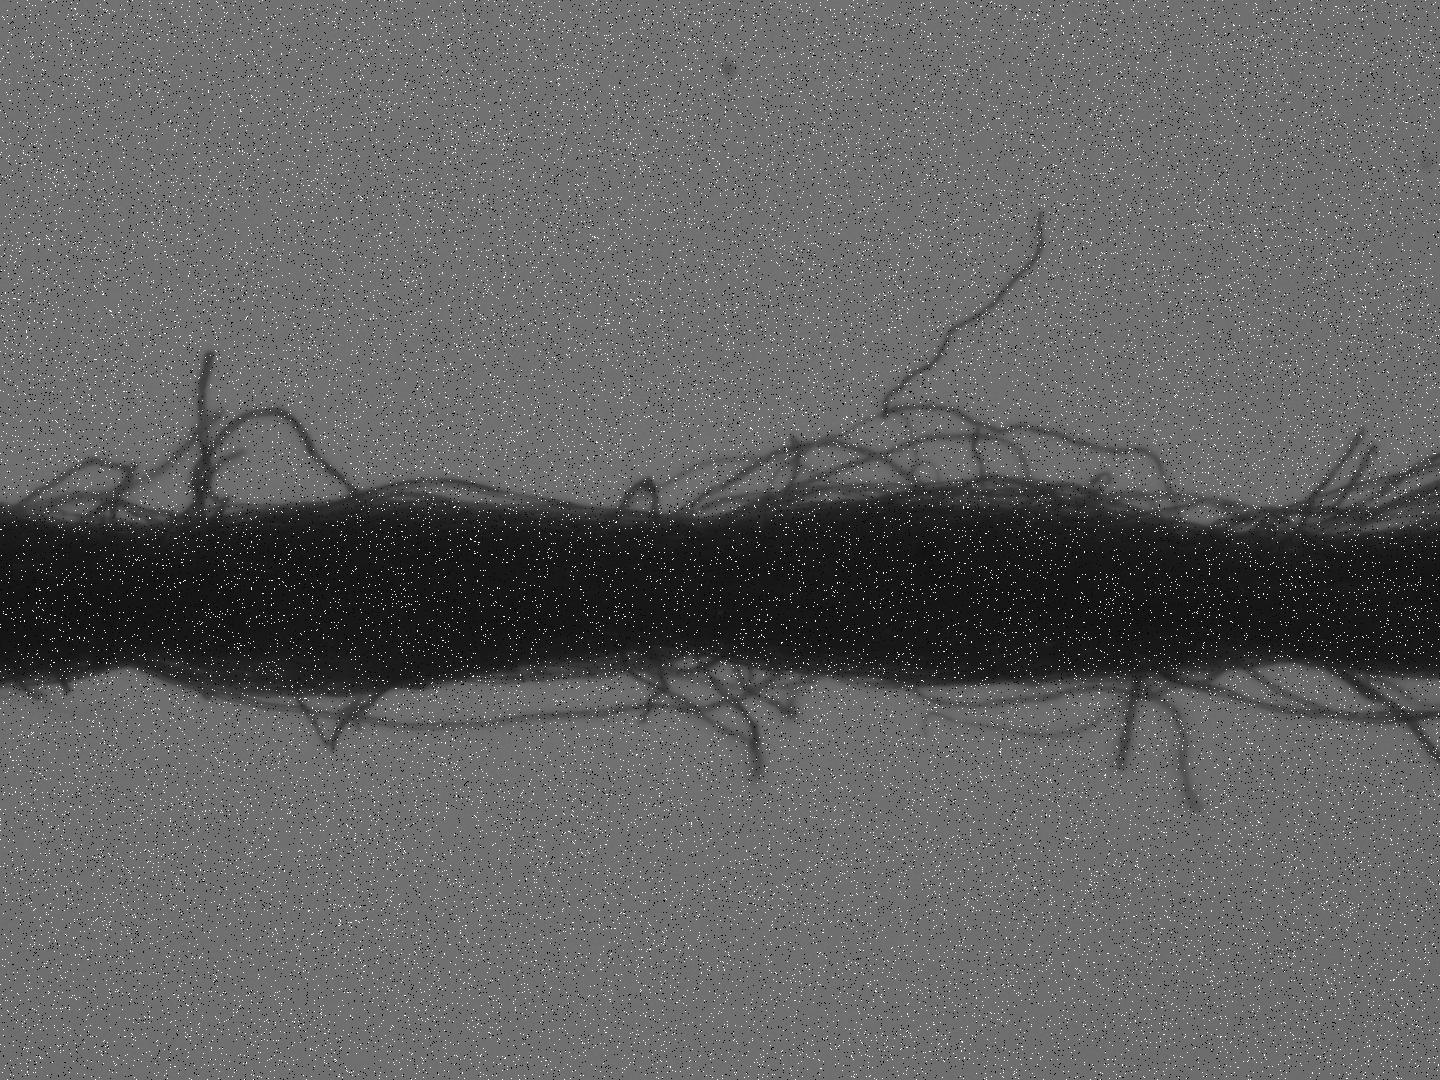loop_fiber: (181, 399, 374, 543), (616, 626, 765, 785), (671, 437, 942, 523), (293, 474, 685, 525), (757, 431, 1032, 504), (872, 473, 1158, 529), (288, 658, 391, 754), (11, 454, 136, 528), (581, 474, 666, 547), (729, 658, 813, 726), (34, 491, 170, 532)
protruding_fiber: (1112, 651, 1145, 778)
